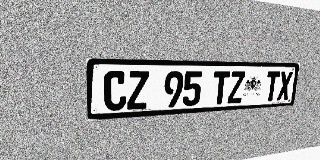5: (182, 71, 202, 106)
9: (163, 71, 184, 108)
C: (104, 71, 127, 111)
T: (211, 71, 230, 105), (264, 71, 280, 101)
X: (277, 71, 293, 101)
Z: (127, 71, 149, 110), (227, 71, 245, 104)
